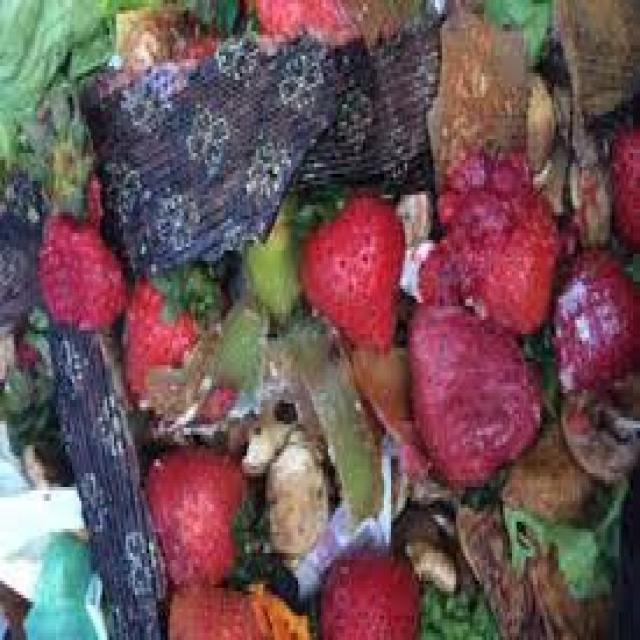food_waste: (38, 53, 625, 640)
